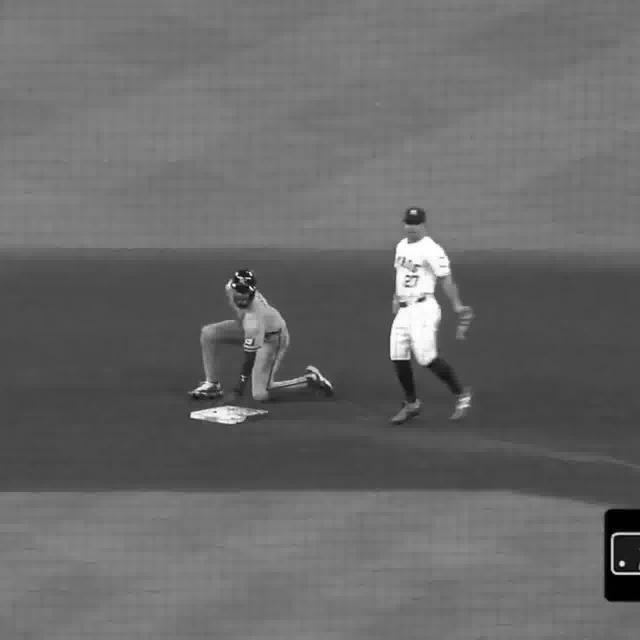base: (194, 410, 269, 427)
baseball_glove: (459, 308, 478, 340)
shoe: (448, 378, 472, 426), (392, 404, 422, 430), (306, 369, 332, 398), (188, 382, 223, 401)
